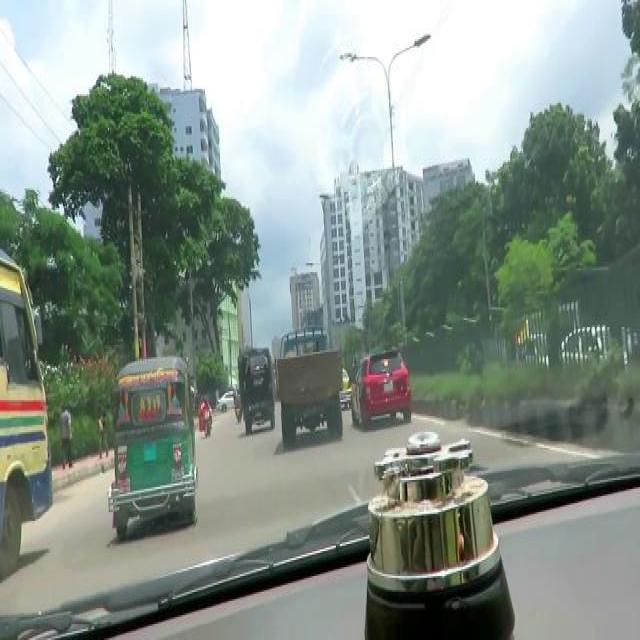bus: (0, 251, 56, 585)
car: (350, 345, 412, 428), (234, 341, 276, 432)
motorcycle: (104, 348, 199, 550)
truck: (275, 326, 344, 452)
